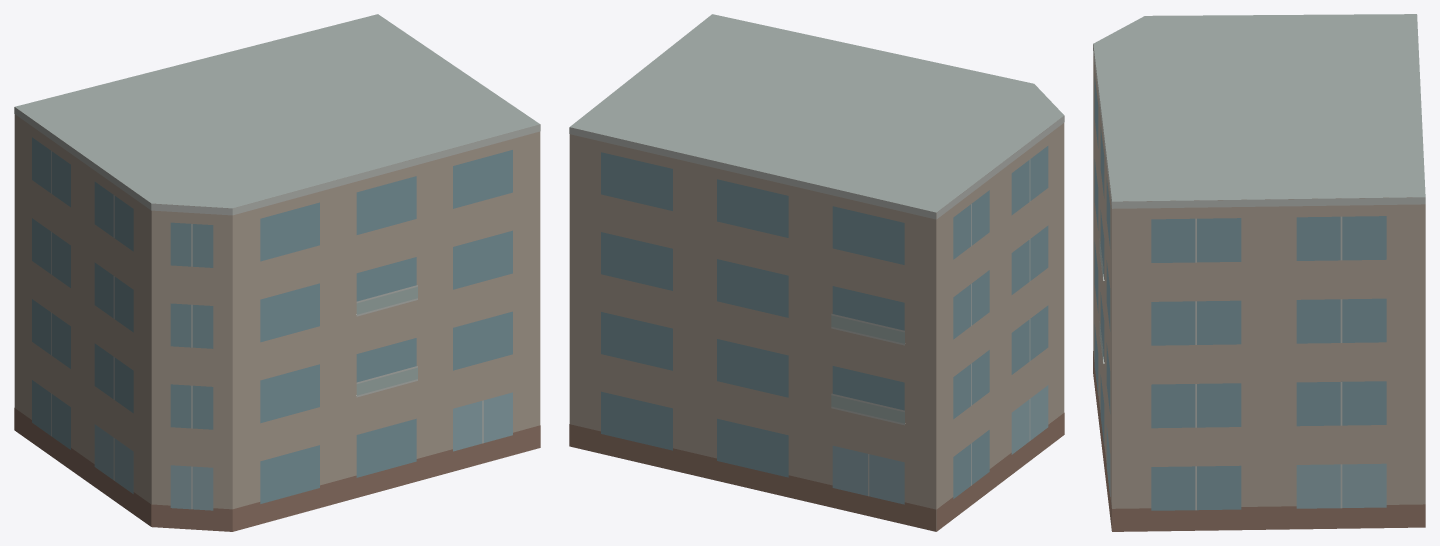
The model's file is survey-upis-32771302.glb.
The picture shows the model from 3 angles, left to right: view 1: azimuth 30°, elevation 25°; view 2: azimuth 150°, elevation 25°; view 3: azimuth 270°, elevation 25°; orthographic projection. The views are drawn at different scales.
Visible parts, largest first — view 1: survey-upis-32771302.tmp; view 2: survey-upis-32771302.tmp; view 3: survey-upis-32771302.tmp.
Boxes of the visible parts, bbox=[...] form: survey-upis-32771302.tmp: bbox=[14, 14, 540, 531]; survey-upis-32771302.tmp: bbox=[569, 14, 1064, 531]; survey-upis-32771302.tmp: bbox=[1093, 14, 1425, 531].
Size of the model in its own units: 13.58 by 11.14 by 10.17.
